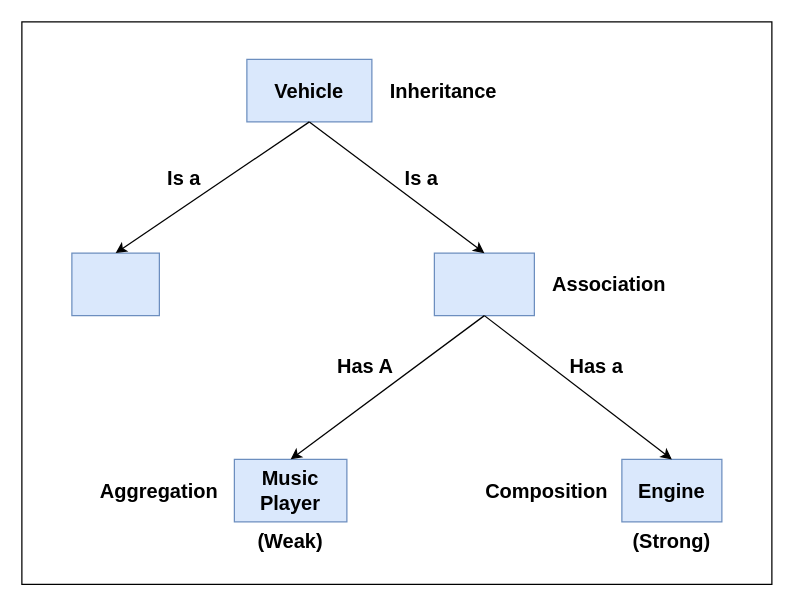
This 794x606 diagram has some shape labels left out. The centre of each missing label's shape, as x and y in pixels:
"Car" belongs at (483,284).
"Jepp" belongs at (115,284).
